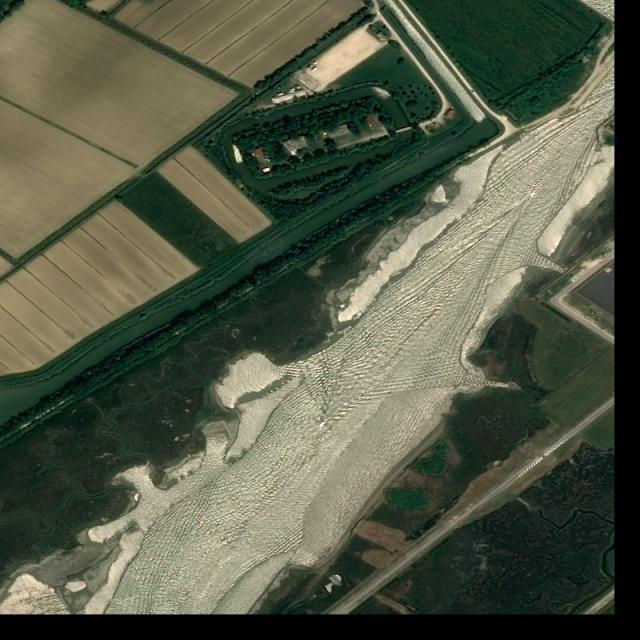ship: (318, 417, 329, 430), (528, 189, 539, 198)
